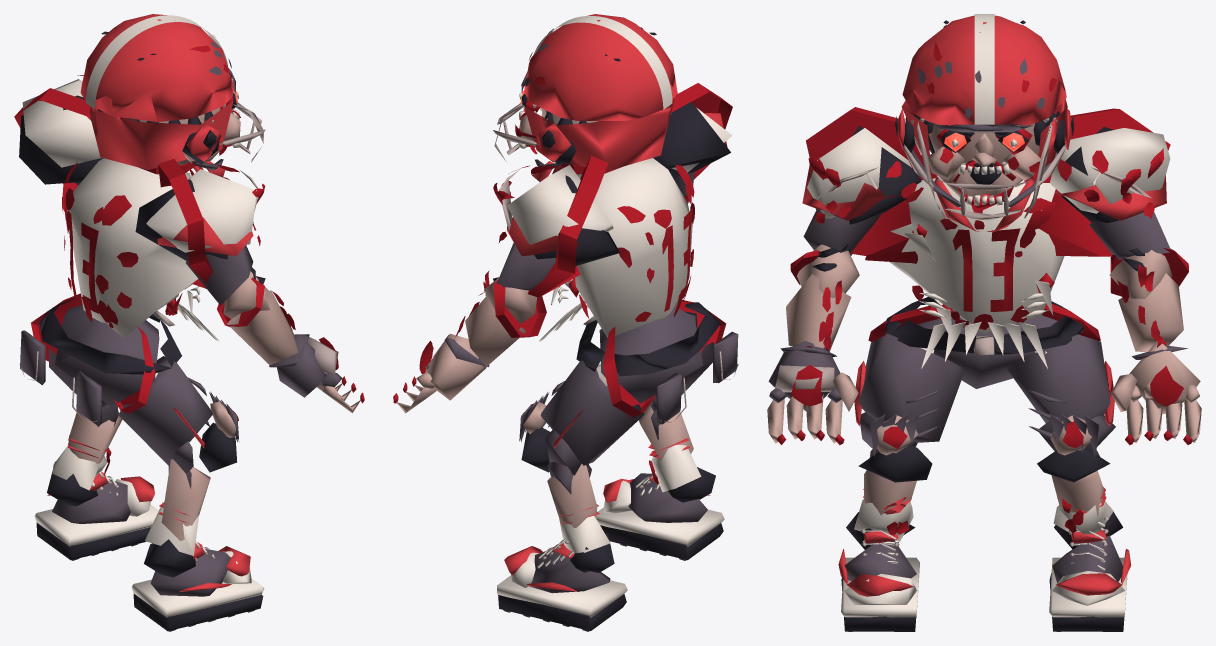
Rendered from inf.armored-football.lod1.glb.
The picture shows the model from 3 angles, left to right: view 1: azimuth 30°, elevation 25°; view 2: azimuth 150°, elevation 25°; view 3: azimuth 270°, elevation 25°; orthographic projection. The views are drawn at different scales.
Visible parts, largest first — view 1: head, torso, hip, armR, footR, footL, legR, armL, shinR, foreArmR, shinL, handR (+5 smaller); view 2: head, torso, hip, footL, armL, footR, legL, shinL, armR, foreArmL, shinR, handL (+5 smaller); view 3: head, torso, armL, armR, legR, legL, footL, footR, handR, hip, handL, foreArmL (+8 smaller).
Part boxes in pixels (x1=…): head: x1=80, y1=14, x2=265, y2=170; torso: x1=62, y1=158, x2=225, y2=340; hip: x1=19, y1=298, x2=181, y2=426; armR: x1=135, y1=165, x2=265, y2=305; footR: x1=131, y1=539, x2=264, y2=631; footL: x1=34, y1=461, x2=158, y2=560; legR: x1=119, y1=356, x2=239, y2=465; armL: x1=19, y1=75, x2=103, y2=185; shinR: x1=145, y1=422, x2=236, y2=555; foreArmR: x1=223, y1=271, x2=309, y2=367; shinL: x1=52, y1=400, x2=122, y2=490; handR: x1=277, y1=335, x2=364, y2=413; head: x1=493, y1=14, x2=677, y2=170; torso: x1=532, y1=158, x2=694, y2=341; hip: x1=576, y1=302, x2=738, y2=424; footL: x1=497, y1=533, x2=627, y2=631; armL: x1=493, y1=165, x2=619, y2=290; footR: x1=596, y1=467, x2=724, y2=560; legL: x1=519, y1=360, x2=644, y2=465; shinL: x1=521, y1=427, x2=610, y2=553; armR: x1=653, y1=93, x2=732, y2=196; foreArmL: x1=444, y1=270, x2=537, y2=367; shinR: x1=639, y1=398, x2=701, y2=492; handL: x1=393, y1=333, x2=486, y2=413; head: x1=895, y1=14, x2=1073, y2=220; torso: x1=865, y1=154, x2=1064, y2=368; armL: x1=1050, y1=127, x2=1170, y2=271; armR: x1=802, y1=125, x2=923, y2=271; legR: x1=854, y1=334, x2=963, y2=457; legL: x1=1005, y1=334, x2=1114, y2=457; footL: x1=1049, y1=507, x2=1131, y2=631; footR: x1=838, y1=512, x2=919, y2=631; handR: x1=767, y1=341, x2=858, y2=445; hip: x1=884, y1=297, x2=1083, y2=388; handL: x1=1111, y1=341, x2=1201, y2=445; foreArmL: x1=1109, y1=250, x2=1188, y2=359.
Bounding box in the file's own units: 0.6666 × 1.63 × 1.08.
